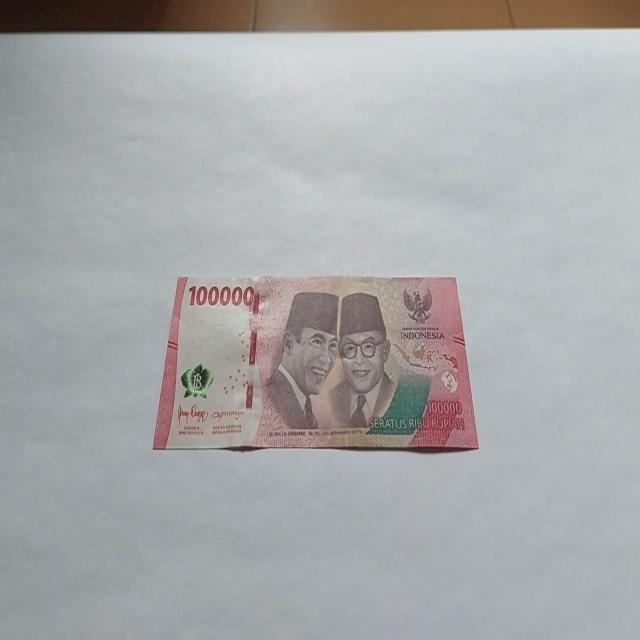seratus ribu rupiah: (152, 273, 480, 453)
